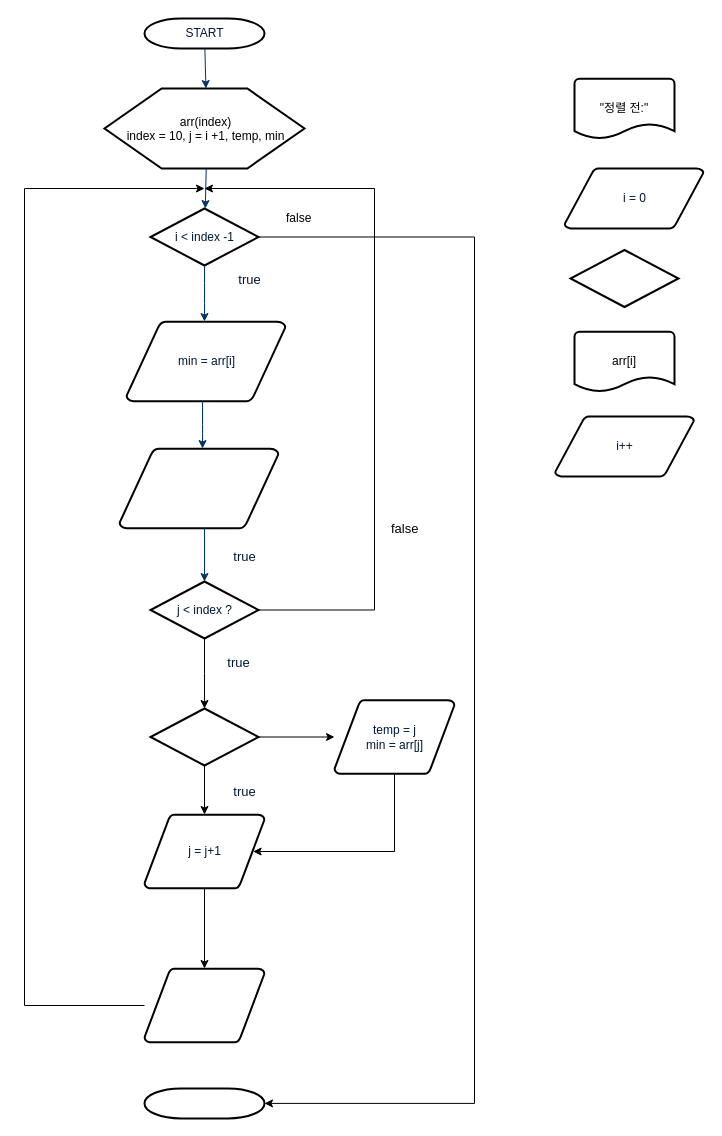
This 722x1136 diagram has some shape labels left out. Here are the shapes that lost their labels. From the top down, the centre of each, then its label:
At point (624, 278): "i < index".
At point (198, 488): "i = i+1, j = i+1".
At point (204, 736): "min < arr[j] ?".
At point (204, 1005): "arr[temp] = arr[i] arr[i] = min".
At point (204, 1103): "END".
